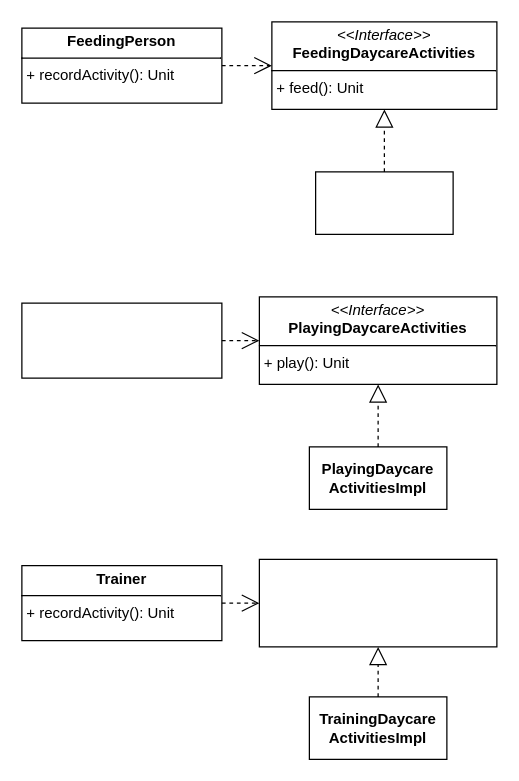
This 519x781 diagram has some shape labels left out. Here are the shapes that lost their labels. From the top down, the centre of each, then its label:
At (x=383, y=202): "FeedingDaycare ActivitiesImpl".
At (x=121, y=340): "PlayingPerson + recordActivity(): Unit".
At (x=377, y=602): "<<Interface>> TrainingDaycareActivities + train(): Unit".
